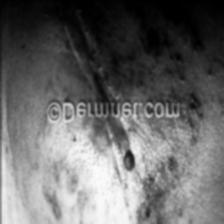Potentially Malignant Skin Tumors: (130, 0, 204, 58), (122, 148, 134, 171)
